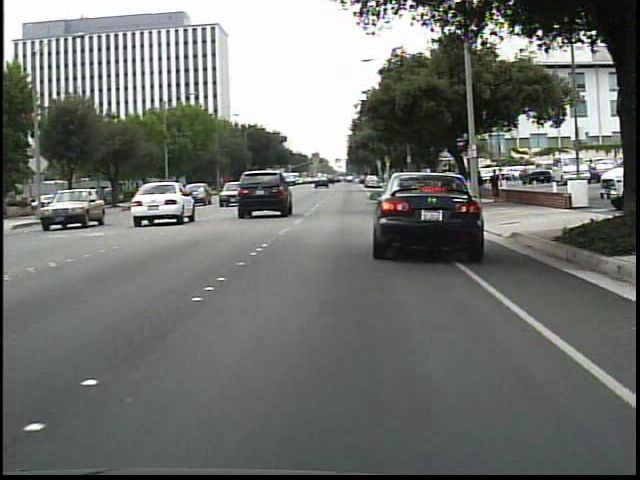person: (487, 169, 503, 206), (473, 170, 488, 202)
